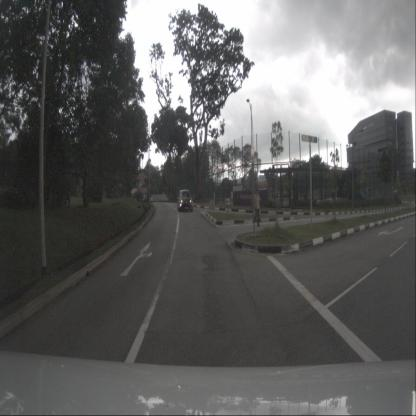human-pedestrian-adult: (252, 188, 261, 227)
vehicle-car: (177, 189, 193, 212)
